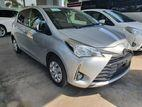car: (13, 5, 132, 89), (86, 7, 142, 54), (0, 8, 18, 39)
